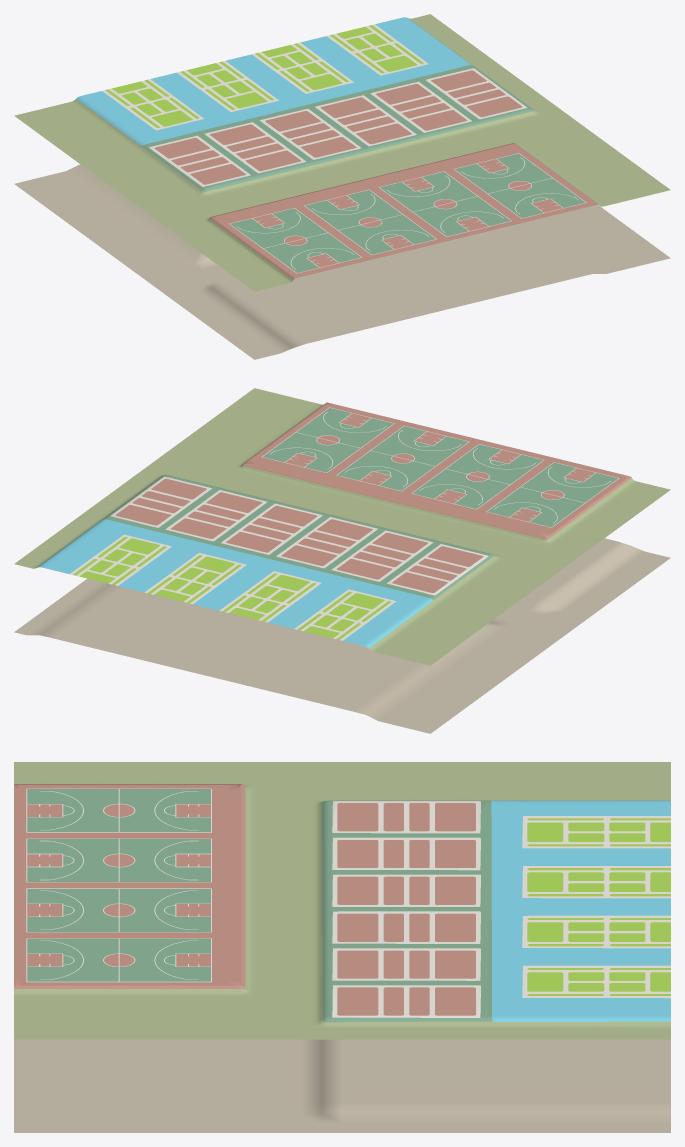
3 views of the same model, one above another, from view 1: azimuth 30°, elevation 25°; view 2: azimuth 150°, elevation 25°; view 3: azimuth 270°, elevation 25° (orthographic). The views are drawn at different scales.
Visible parts, largest first — view 1: s_-3_-6__soil, s_-3_-6__grass, s_-3_-6__red_court, s_-3_-6__green_court, s_-3_-6__white_marking, s_-3_-6__tennis_blue, s_-3_-6__tennis_lime; view 2: s_-3_-6__soil, s_-3_-6__grass, s_-3_-6__red_court, s_-3_-6__green_court, s_-3_-6__white_marking, s_-3_-6__tennis_blue, s_-3_-6__tennis_lime; view 3: s_-3_-6__soil, s_-3_-6__grass, s_-3_-6__red_court, s_-3_-6__green_court, s_-3_-6__white_marking, s_-3_-6__tennis_blue, s_-3_-6__tennis_lime.
Part boxes in pixels (left/top/right/bottom): s_-3_-6__soil: left=14, top=164, right=670, bottom=359; s_-3_-6__grass: left=14, top=14, right=670, bottom=291; s_-3_-6__red_court: left=154, top=70, right=598, bottom=279; s_-3_-6__green_court: left=141, top=65, right=585, bottom=272; s_-3_-6__white_marking: left=102, top=24, right=586, bottom=273; s_-3_-6__tennis_blue: left=76, top=17, right=471, bottom=145; s_-3_-6__tennis_lime: left=105, top=25, right=423, bottom=127; s_-3_-6__soil: left=14, top=538, right=670, bottom=733; s_-3_-6__grass: left=14, top=388, right=670, bottom=665; s_-3_-6__red_court: left=115, top=402, right=631, bottom=592; s_-3_-6__green_court: left=103, top=408, right=617, bottom=600; s_-3_-6__white_marking: left=70, top=407, right=619, bottom=640; s_-3_-6__tennis_blue: left=38, top=519, right=432, bottom=648; s_-3_-6__tennis_lime: left=73, top=537, right=390, bottom=639; s_-3_-6__soil: left=14, top=1039, right=670, bottom=1132; s_-3_-6__grass: left=14, top=762, right=670, bottom=1039; s_-3_-6__red_court: left=14, top=784, right=475, bottom=1015; s_-3_-6__green_court: left=27, top=789, right=492, bottom=1022; s_-3_-6__white_marking: left=26, top=788, right=670, bottom=1017; s_-3_-6__tennis_blue: left=491, top=800, right=670, bottom=1021; s_-3_-6__tennis_lime: left=527, top=818, right=670, bottom=995.
Size of the model in its own units: 128 by 21.01 by 128.
